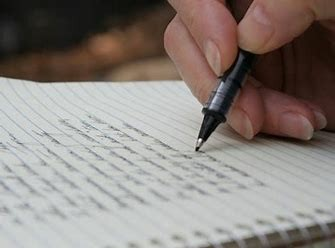pen: (196, 1, 272, 148)
